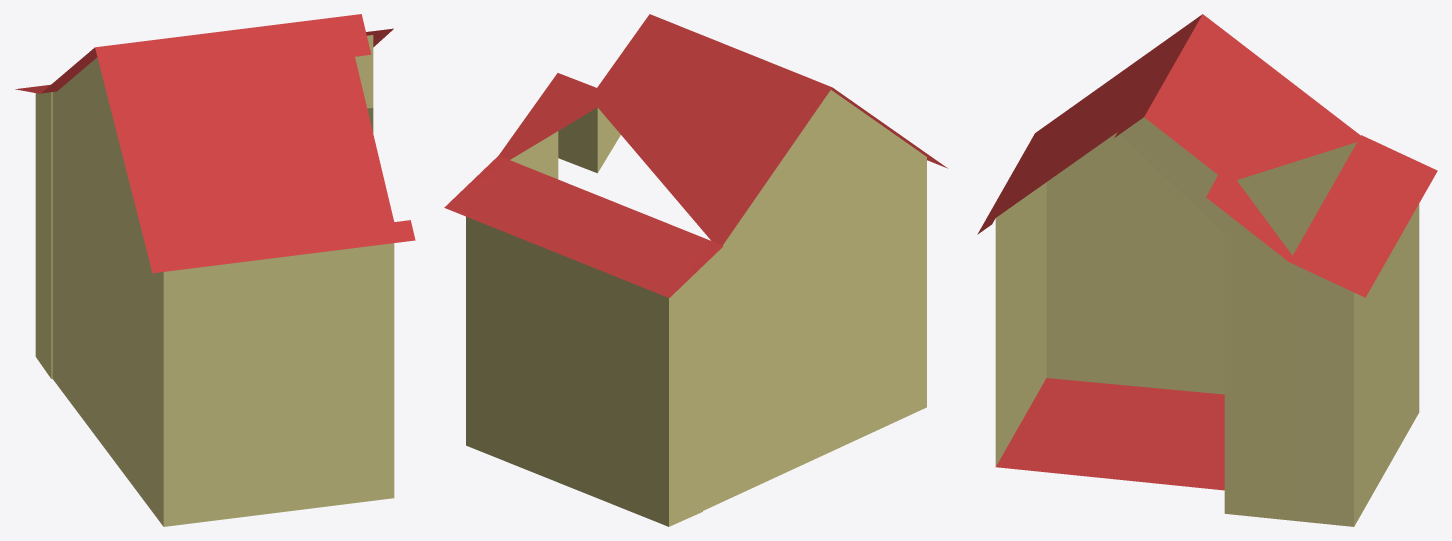
The picture shows the model from 3 angles, left to right: view 1: azimuth 30°, elevation 25°; view 2: azimuth 150°, elevation 25°; view 3: azimuth 270°, elevation 25°; orthographic projection. The views are drawn at different scales.
Bounding box in the file's own units: 12.6 × 14.9 × 13.27.
